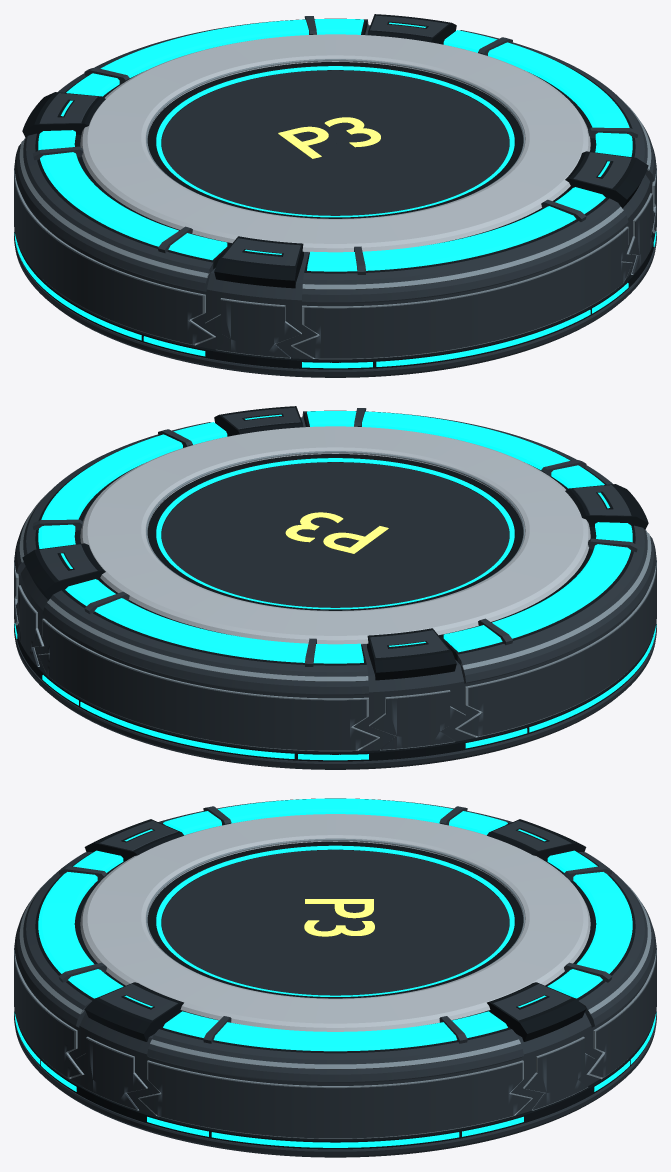
The model's file is Bouncer.fbx.
3 views of the same model, one above another, from view 1: azimuth 30°, elevation 25°; view 2: azimuth 150°, elevation 25°; view 3: azimuth 270°, elevation 25° (orthographic).
Visible parts, largest first — view 1: SM_Puck_Bouncer_P3_HighDetail; view 2: SM_Puck_Bouncer_P3_HighDetail; view 3: SM_Puck_Bouncer_P3_HighDetail.
Part boxes in pixels (<box>): SM_Puck_Bouncer_P3_HighDetail: <box>14,14,656,377</box>; SM_Puck_Bouncer_P3_HighDetail: <box>14,406,656,769</box>; SM_Puck_Bouncer_P3_HighDetail: <box>14,798,656,1157</box>.
Bounding box in the file's own units: 86.5 × 86.5 × 16.1.
